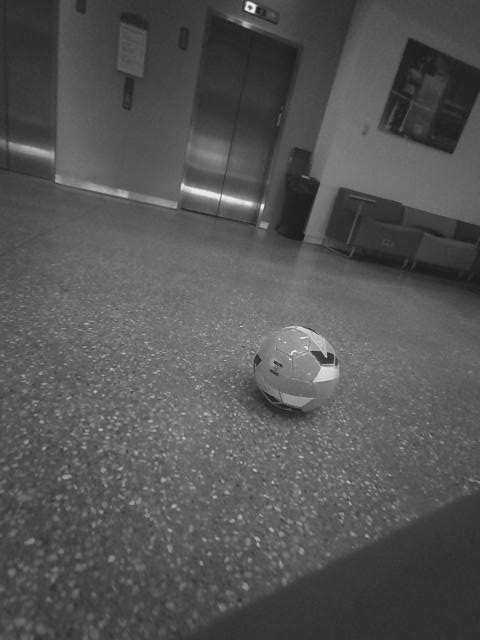ball: (75, 297, 139, 354)
